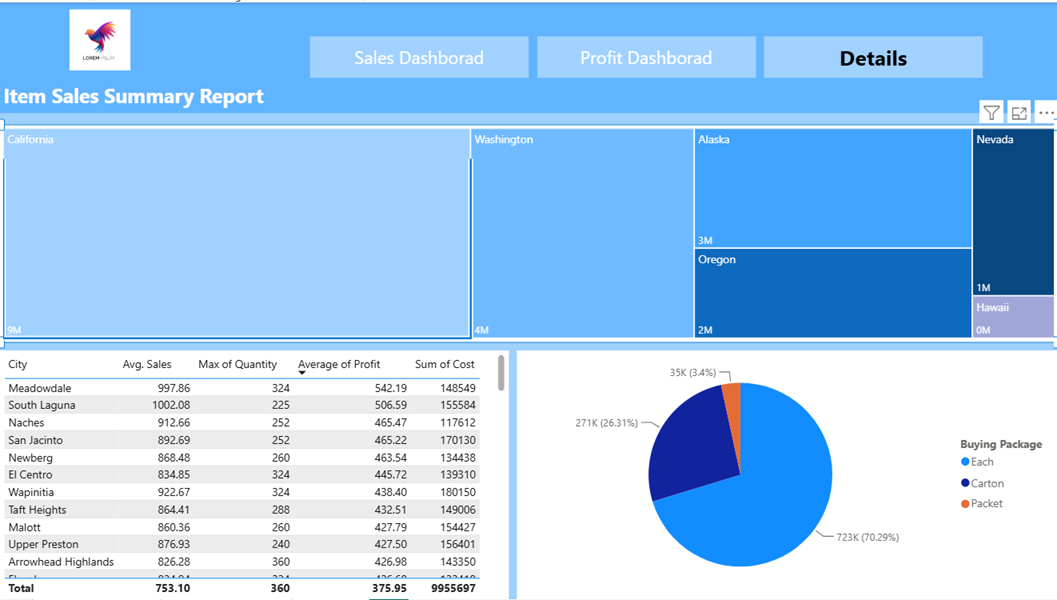

What the dashboard file says about the page in this screenshot:
{"tool":"powerbi","page":{"name":"Details","canvas":[1280,720],"ordinal":2},"visuals":[{"type":"shape","box":[0,0,1280,133.9],"z":0},{"type":"textbox","box":[0,91.7,328.2,55.5],"z":1000},{"type":"image","box":[0,8.4,242.5,73.6],"z":2000},{"type":"pageNavigator","box":[375.2,41,813.1,50.7],"z":3000},{"type":"treemap","fields":{"Group":["DimCity.State Province"],"Values":["Sum(FactSale.Total Excluding Tax)"]},"box":[0,147.2,1280,263],"z":4000},{"type":"pieChart","fields":{"Category":["DimStockItem.Buying Package"],"Y":["Sum(FactSale.Quantity)"]},"box":[624.9,419.8,655.1,300.4],"z":5000},{"type":"tableEx","fields":{"Values":["DimCity.City","Avg(FactSale.Total Excluding Tax)","Max(FactSale.Quantity)","Avg(FactSale.Profit)","Sum(FactSale.COGS)"]},"box":[0,419.8,615.3,300.4],"z":6000}]}

Visuals, with their boxes in screenshot pixels (x1, y1, x2, y2), scaled from the page's 1280x720 canvas onto the 1057x600 screenshot:
shape: 0:0:1056:112
textbox: 0:76:271:123
image: 0:7:200:68
pageNavigator: 310:34:981:76
treemap - DimCity.State Province x Sum(FactSale.Total Excluding Tax): 0:123:1056:342
pieChart - DimStockItem.Buying Package x Sum(FactSale.Quantity): 516:350:1056:599
tableEx - DimCity.City x Avg(FactSale.Total Excluding Tax): 0:350:508:599
